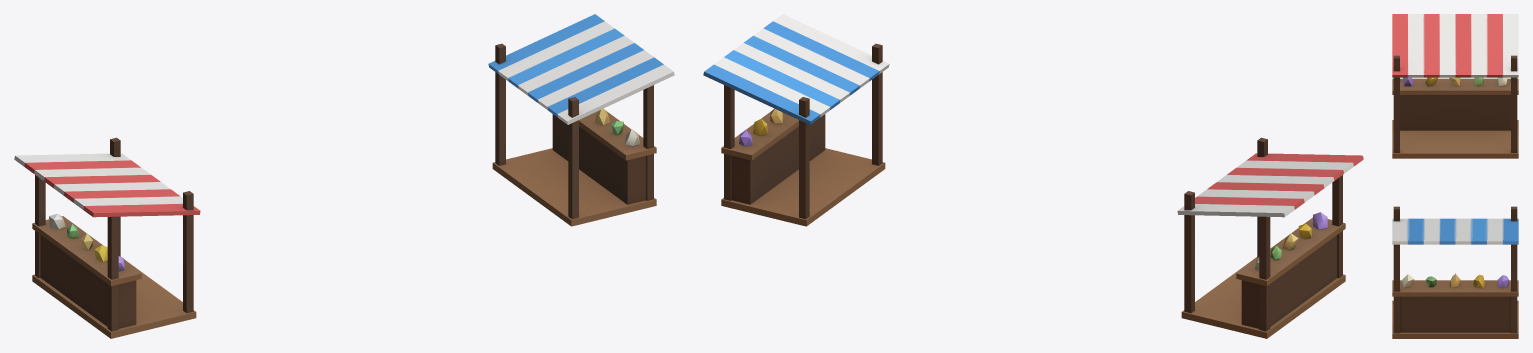
File: hub_stalls.fbx
The picture shows the model from 3 angles, left to right: view 1: azimuth 30°, elevation 25°; view 2: azimuth 150°, elevation 25°; view 3: azimuth 270°, elevation 25°; orthographic projection. The views are drawn at different scales.
Parts seen in each view (by area): view 1: hub_stalls_body; view 2: hub_stalls_body; view 3: hub_stalls_body.
Part boxes in pixels (box(x1,y1,x2,y2)): hub_stalls_body: box(14, 14, 674, 338); hub_stalls_body: box(703, 14, 1363, 338); hub_stalls_body: box(1392, 14, 1518, 338).
Size of the model in its own units: 3411 by 728 by 800.
1 material, 1 textured.
